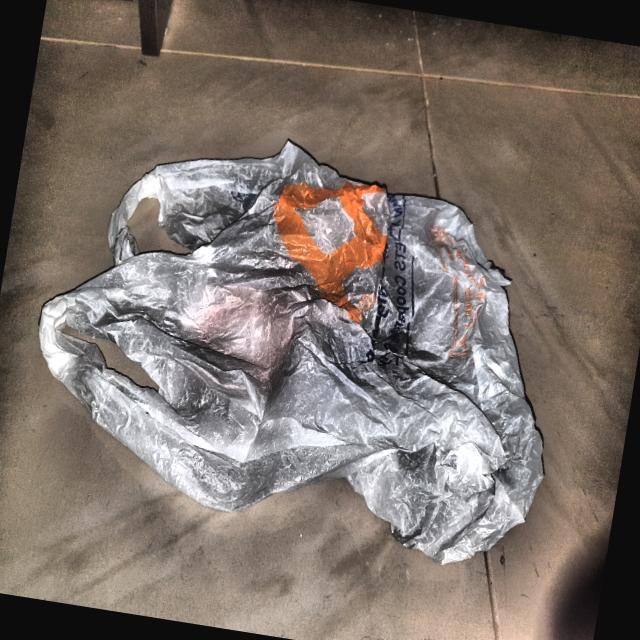plastic bag: (2, 93, 597, 596)
